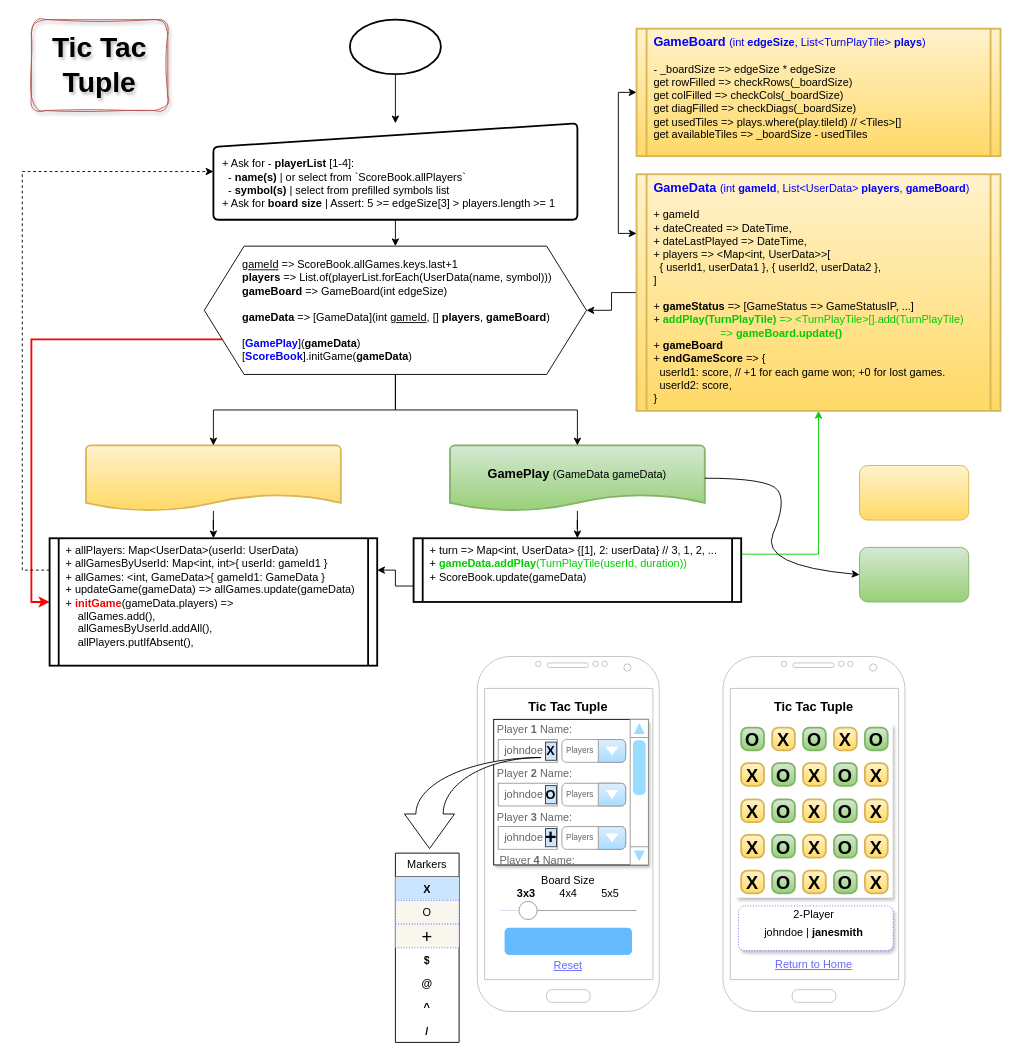
Some shapes in this 1017 by 1061 pixel diagram are drawn without their labels. The shapes that lost their labels are listed below. From the top down, each one's centre as x and y in pixels, then its label:
[395,46]: GameInit
[213,477]: ScoreBook
[914,492]: BLOC
[914,574]: STREAM
[568,941]: Let's Play!
